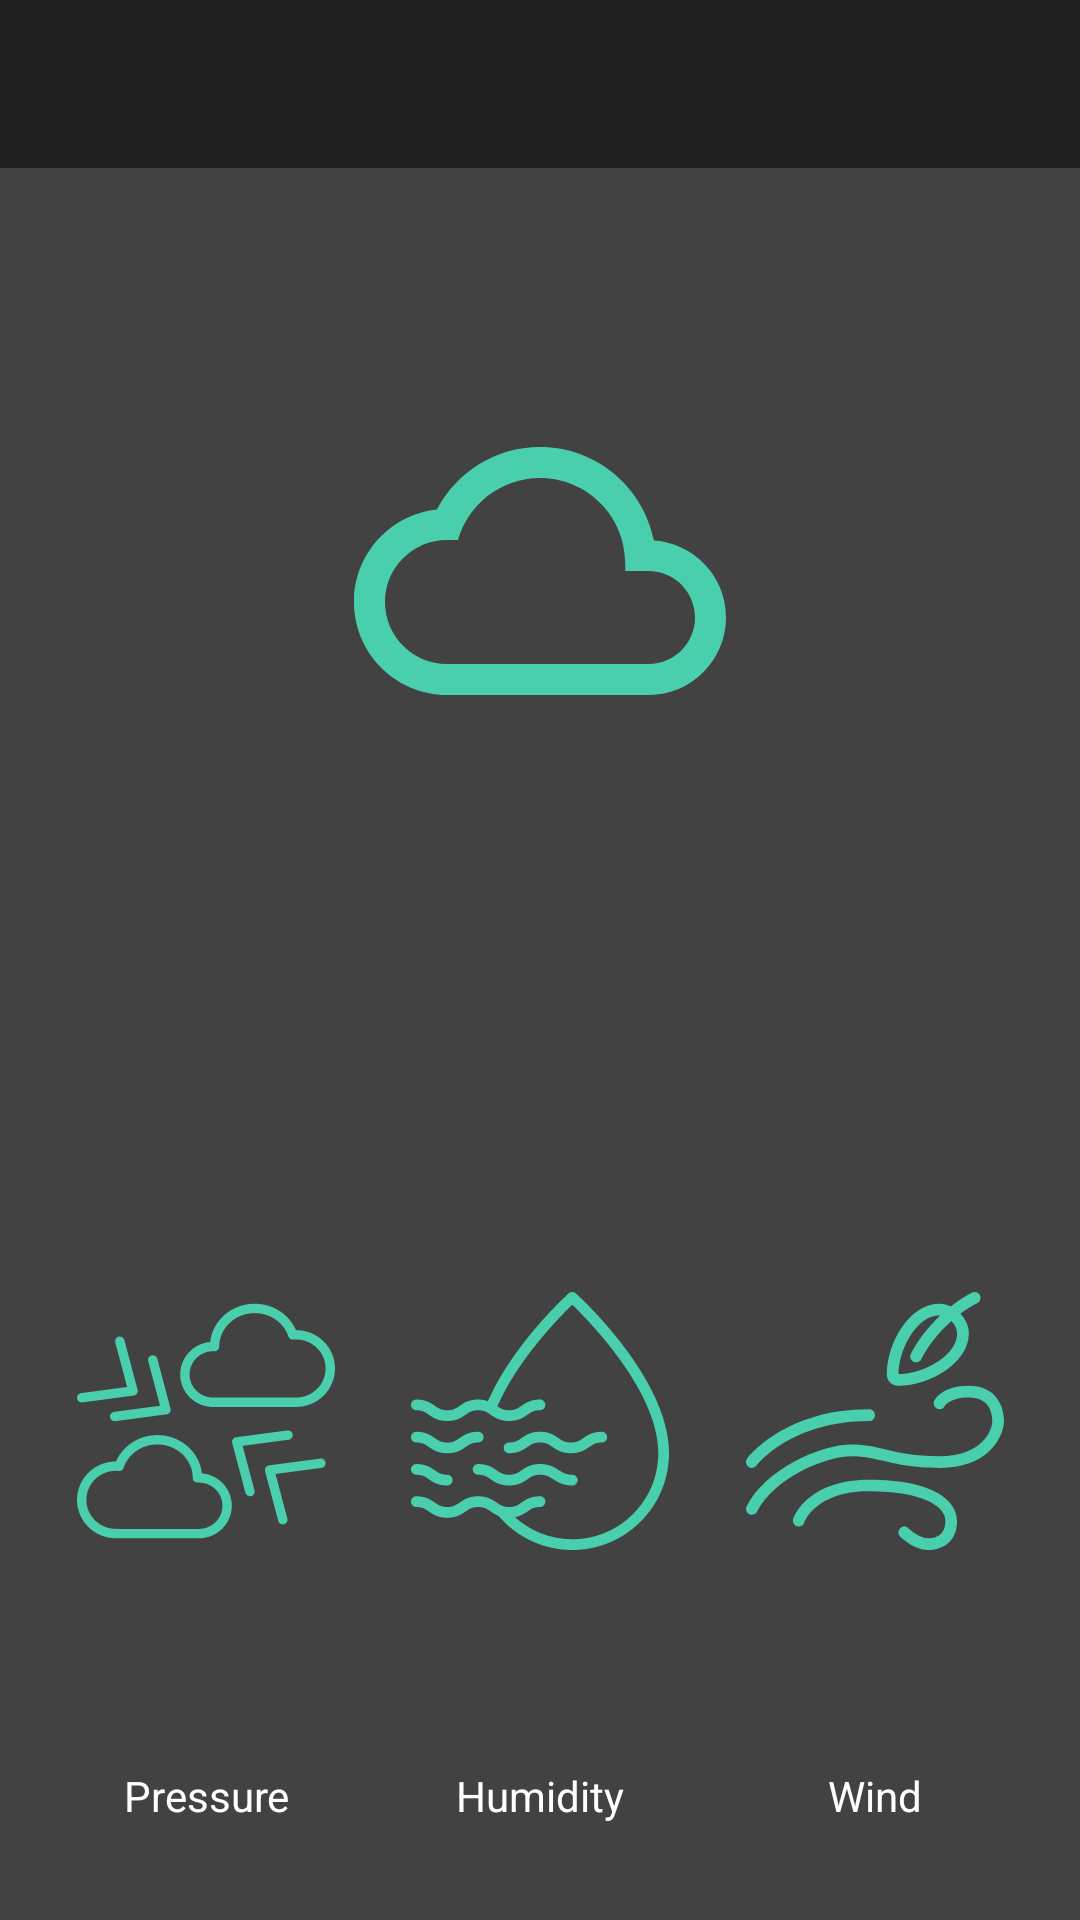

Icons on this 1080 x 1920 Android screen, each with the point to tap as [x,y]:
humidity: [540,1421]
pressure: [206,1421]
wind: [875,1421]
